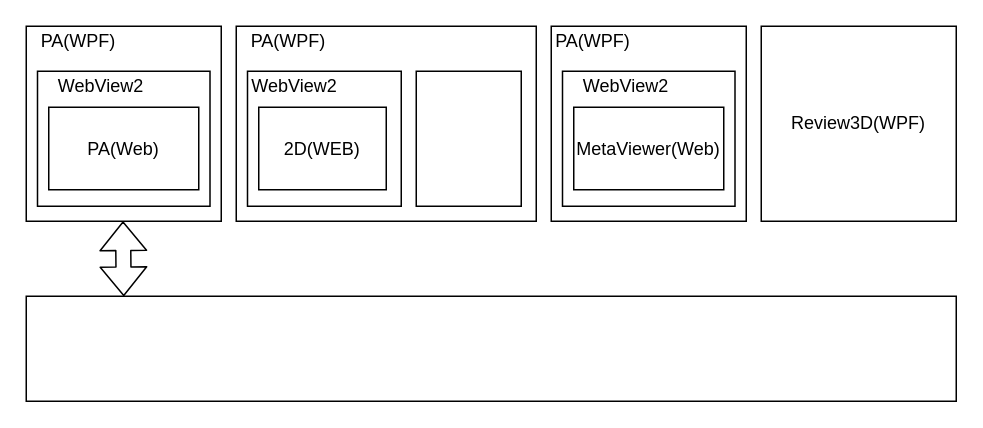
Some shapes in this 983 by 428 pixel diagram are drawn without their labels. Here are the shapes that lost their labels. From the top down, the centre of each, then its label:
(x=468, y=138): 2D Client Proxy
(x=490, y=348): Fenix Client Frame
